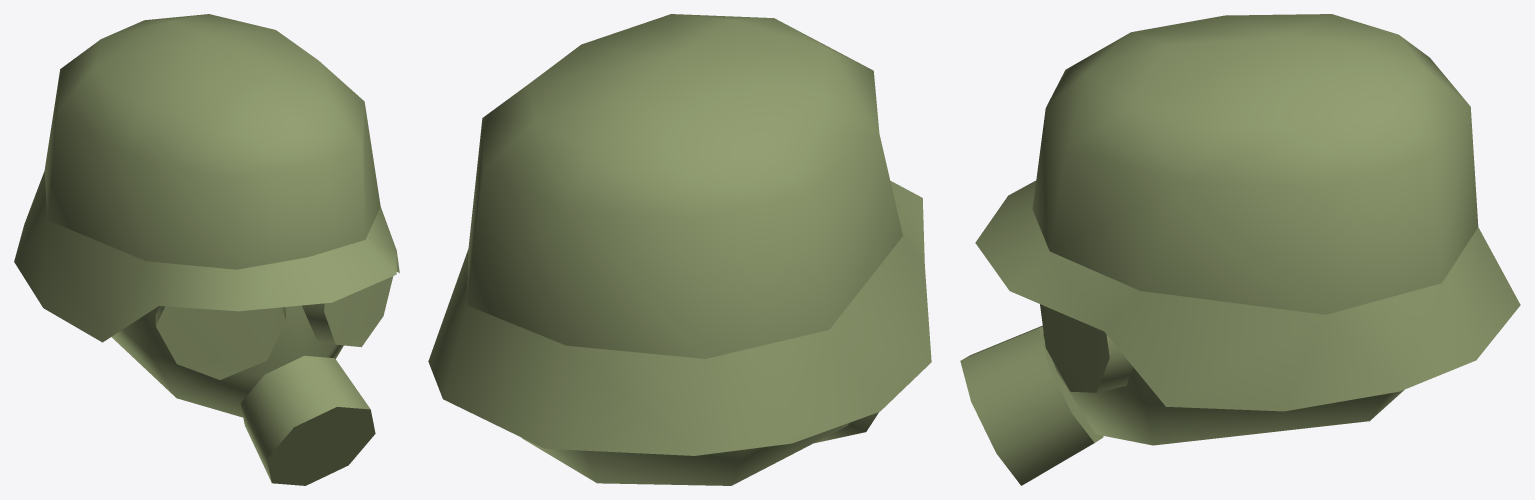
File: Basic_Soldier_Helmet_Type_2.fbx
The picture shows the model from 3 angles, left to right: view 1: azimuth 30°, elevation 25°; view 2: azimuth 150°, elevation 25°; view 3: azimuth 270°, elevation 25°; orthographic projection. The views are drawn at different scales.
Parts seen in each view (by area): view 1: Basic_Soldier_Helmet_Type_2; view 2: Basic_Soldier_Helmet_Type_2; view 3: Basic_Soldier_Helmet_Type_2.
Boxes of the visible parts, <box> form: Basic_Soldier_Helmet_Type_2: <box>14,14,399,485</box>; Basic_Soldier_Helmet_Type_2: <box>428,14,931,485</box>; Basic_Soldier_Helmet_Type_2: <box>960,14,1520,485</box>.
Bounding box in the file's own units: 33.93 × 37.99 × 43.35.
